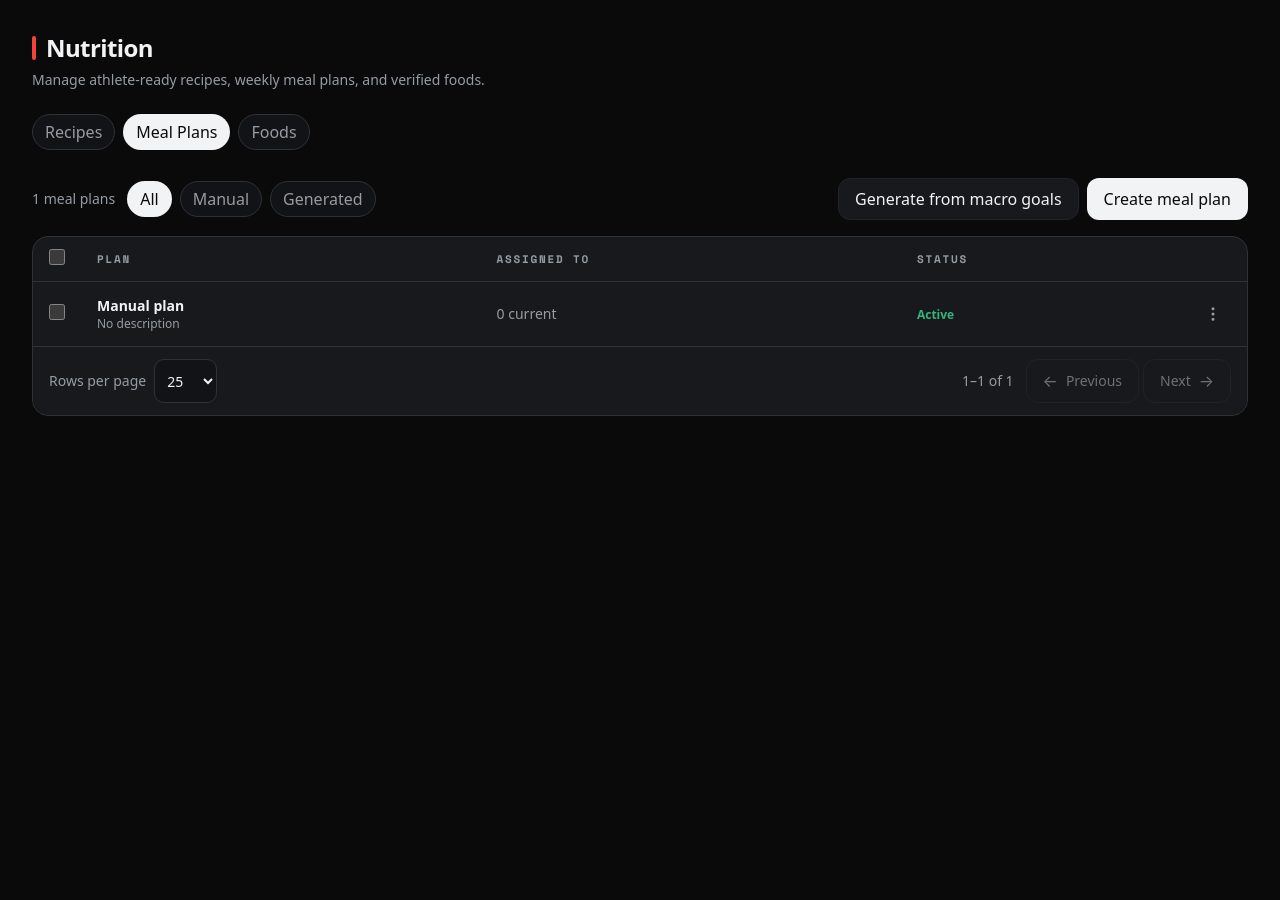
Scenario: Nutrition meal-plan deletion › uses returning maybeSingle for manual plans and rejects a zero-row delete
This screenshot has width=1280, height=900.
Expected: the text "Manual plan" is shown, x1=97 y1=296 x2=184 y2=315
Click the button named "Actions" at coordinates (1213, 314), box x1=1195 y1=296 x2=1231 y2=332
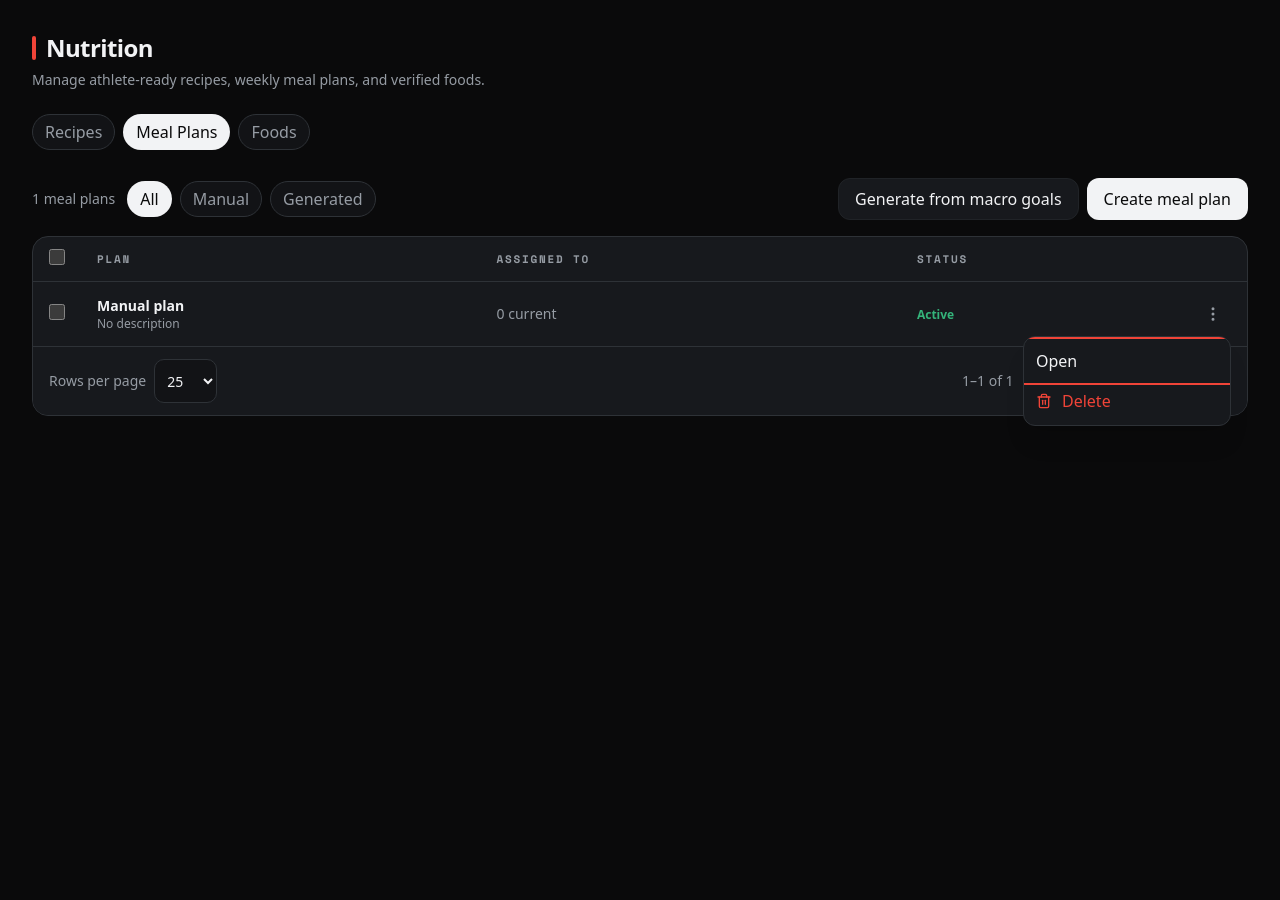
Click the menu item "Delete" at coordinates (1127, 401), box x1=1024 y1=381 x2=1230 y2=421
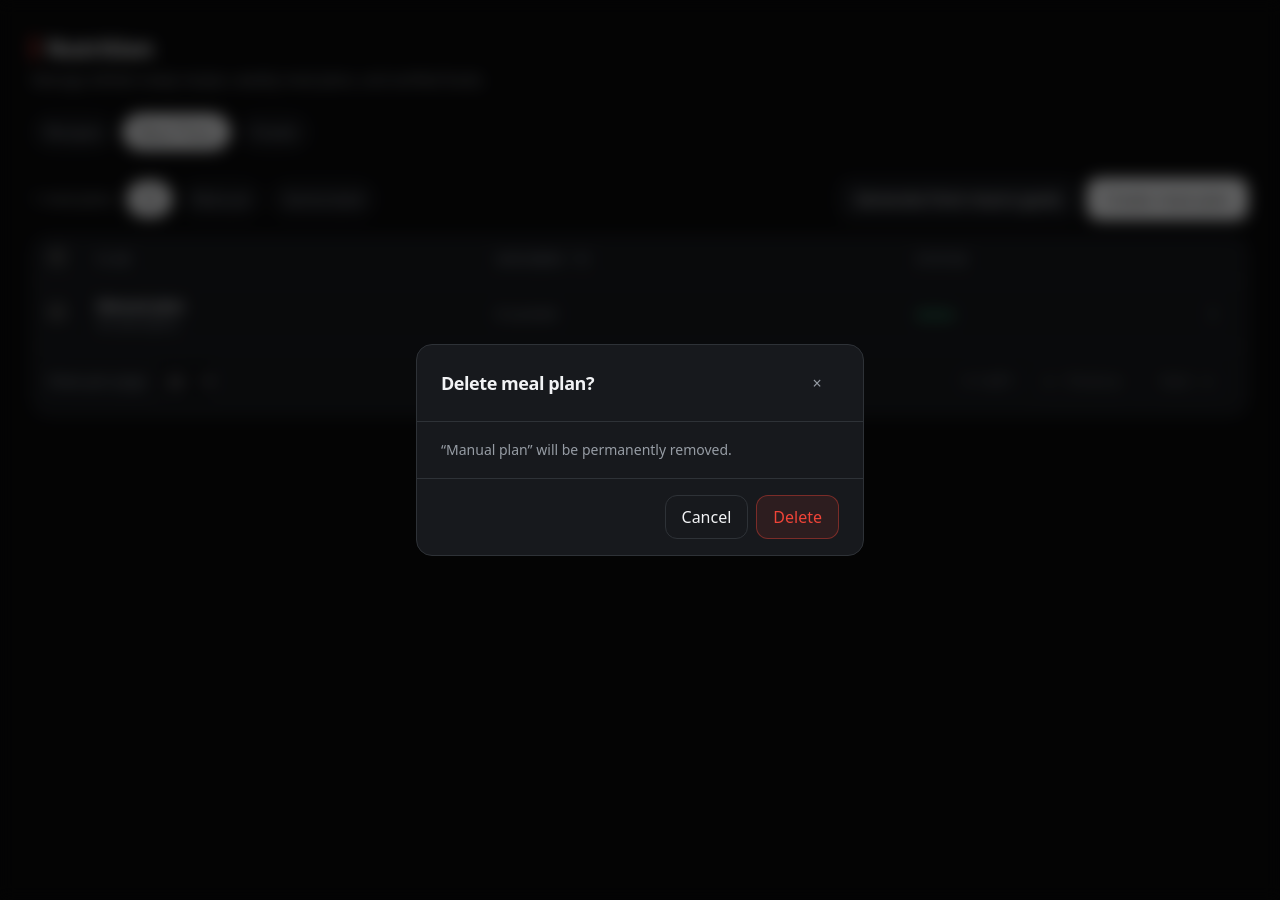
Click the button "Delete" at coordinates (798, 517), box x1=756 y1=495 x2=839 y2=539
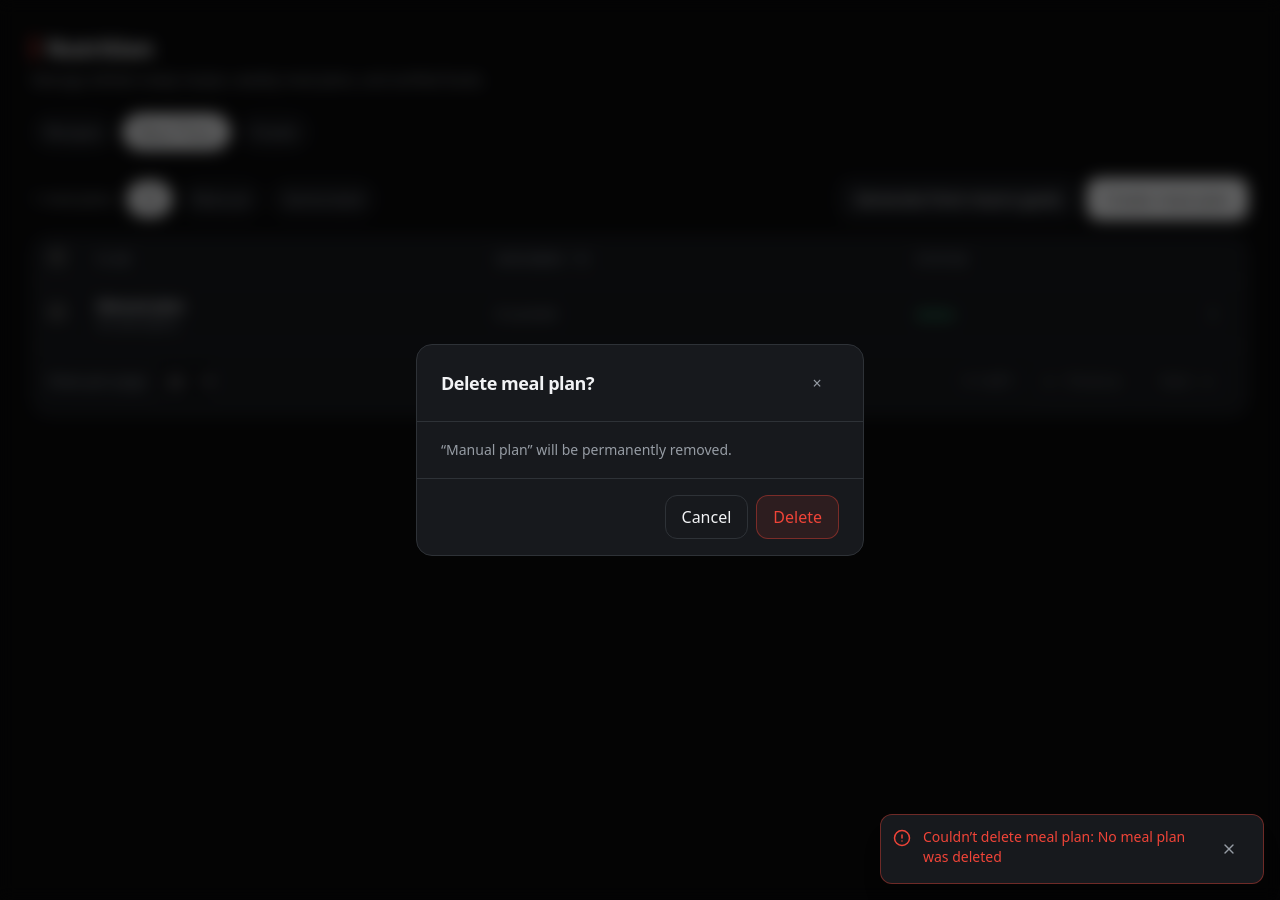
Now the text "Couldn’t delete meal plan: No meal plan was deleted" is shown, box x1=923 y1=827 x2=1195 y2=867
